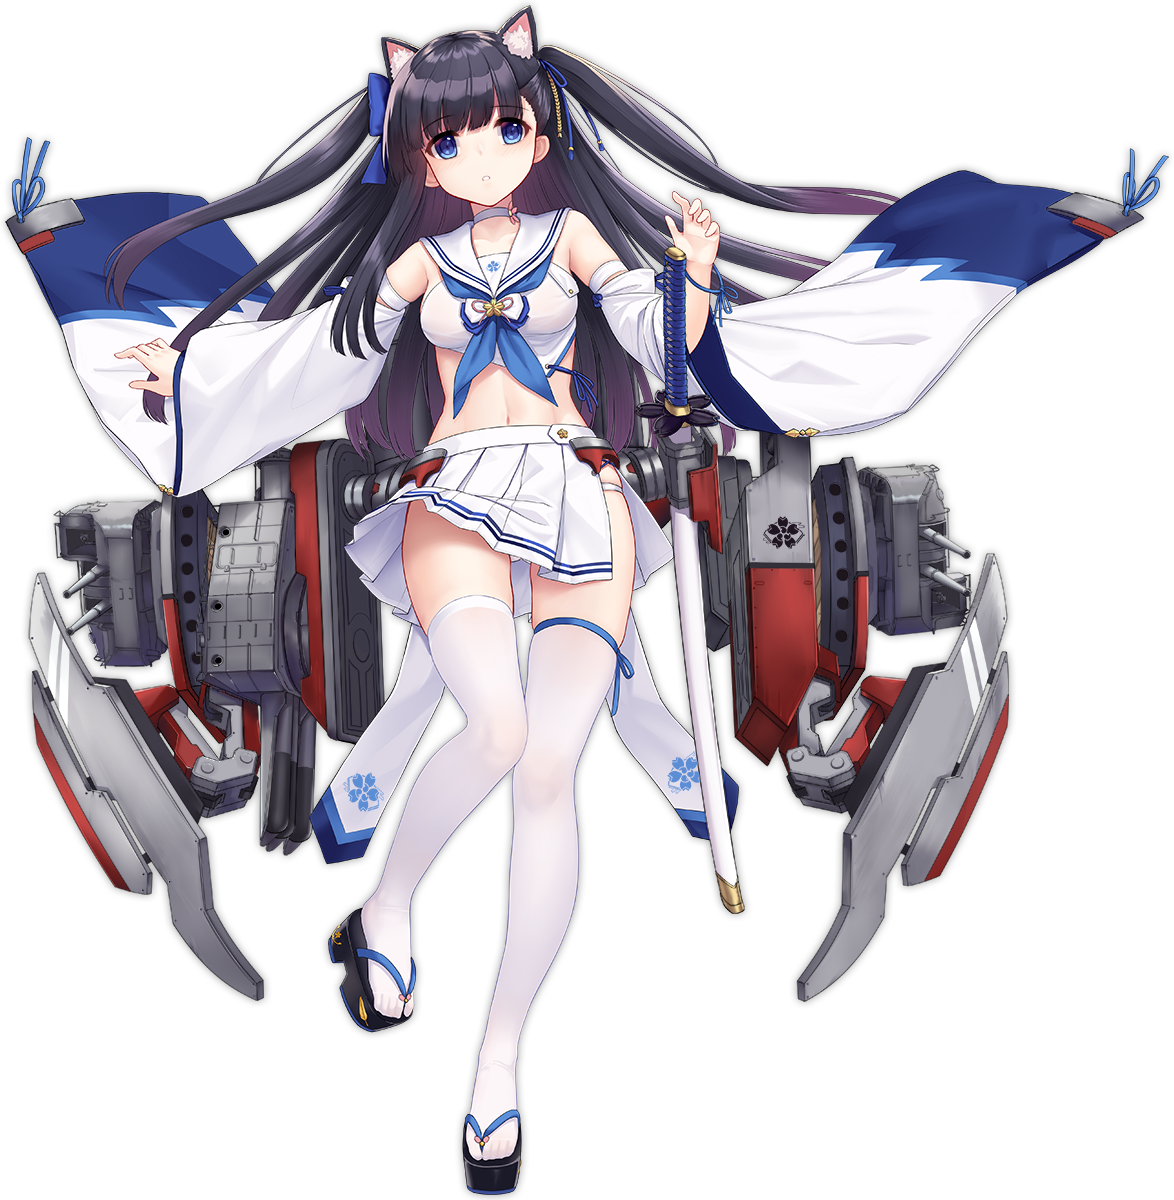person: (285, 6, 640, 882)
